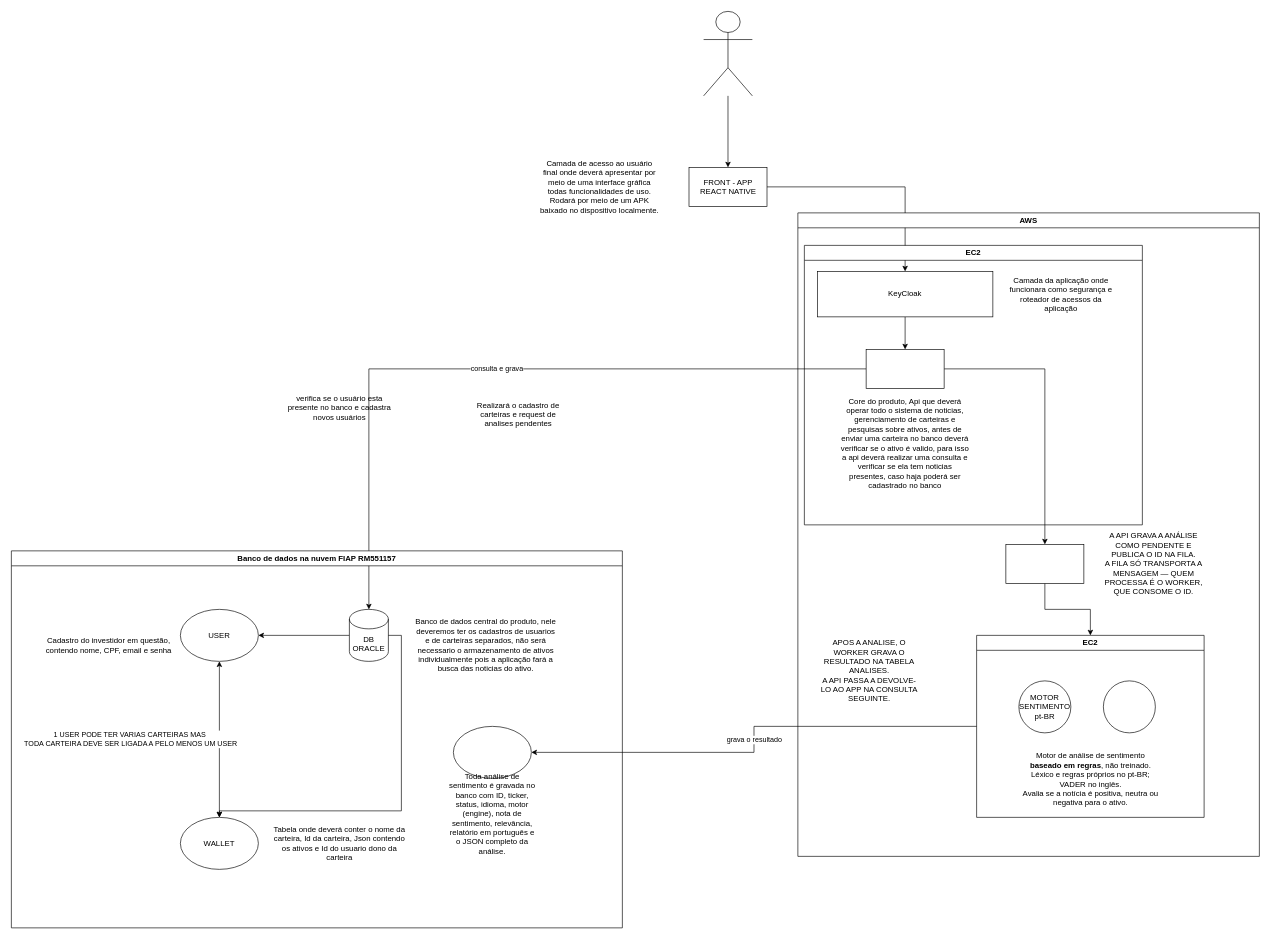
Image size: 1271x939. Some labels were removed from this diagram. The shapes that lost their labels are listed below. From the top down, each one's centre as x and y in pixels, then its label:
At (x=727, y=53): "Investidor".
At (x=904, y=368): "API TRACKER DJANGO PYTHON".
At (x=1044, y=563): "RABBITMQ".
At (x=1129, y=706): "MOTOR SENTIMENTO EN".
At (x=492, y=752): "ANALISES".
